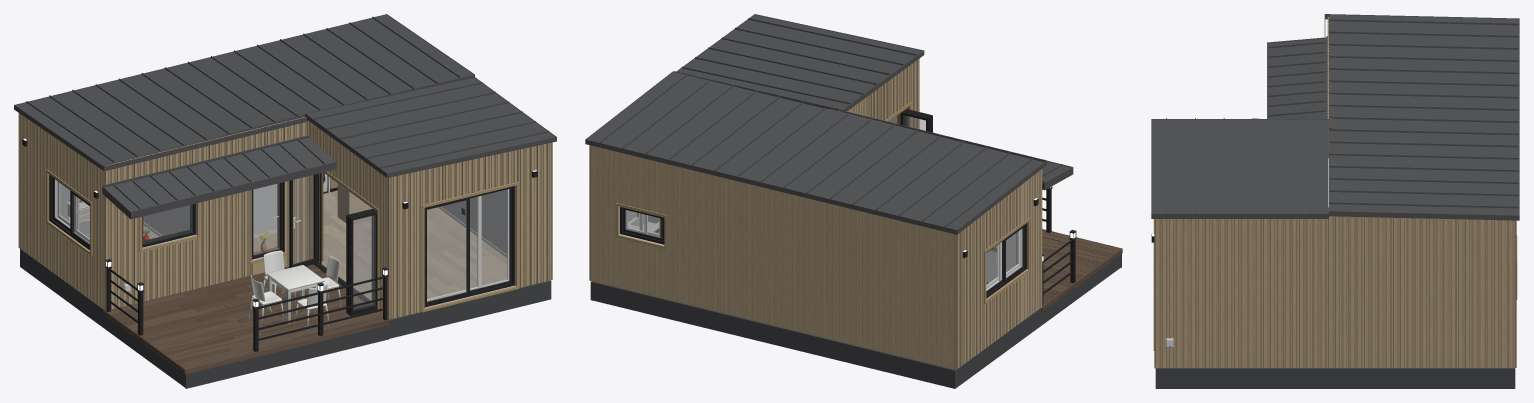
The model's file is seum-shelter-10.glb.
The picture shows the model from 3 angles, left to right: view 1: azimuth 30°, elevation 25°; view 2: azimuth 150°, elevation 25°; view 3: azimuth 270°, elevation 25°; orthographic projection. The views are drawn at different scales.
Visible parts, largest first — view 1: 지붕_Roof_MetalGray, Ext_WoodLouver, Ext_LouverGroove, Glass_Bronze, Deck_DarkWalnut, Frame_Black, Ext_BaseMetal, Int_Laminate, Roof_MetalGray, Int_WallWhite, 지붕_Cope_DarkGray, Ext_TrimBeige (+6 smaller); view 2: Ext_WoodLouver, 지붕_Roof_MetalGray, Ext_LouverGroove, Ext_BaseMetal, 지붕_Cope_DarkGray, Deck_DarkWalnut, Frame_Black, Glass_Bronze, Ext_TrimBeige, PVC_White, Int_WallWhite; view 3: 지붕_Roof_MetalGray, Ext_WoodLouver, Ext_LouverGroove, Ext_BaseMetal, Roof_MetalGray, 지붕_Cope_DarkGray, Cope_DarkGray, Ext_TrimBeige.
Boxes of the visible parts, <box> form: 지붕_Roof_MetalGray: <box>16,14,554,172</box>; Ext_WoodLouver: <box>19,113,552,319</box>; Ext_LouverGroove: <box>18,77,552,319</box>; Glass_Bronze: <box>55,175,509,309</box>; Deck_DarkWalnut: <box>104,264,388,374</box>; Frame_Black: <box>22,139,537,351</box>; Ext_BaseMetal: <box>20,249,551,388</box>; Int_Laminate: <box>88,190,507,300</box>; Roof_MetalGray: <box>105,138,335,211</box>; Int_WallWhite: <box>60,184,515,307</box>; 지붕_Cope_DarkGray: <box>14,14,556,177</box>; Ext_TrimBeige: <box>46,169,519,313</box>; Ext_WoodLouver: <box>589,58,1042,369</box>; 지붕_Roof_MetalGray: <box>587,14,1043,229</box>; Ext_LouverGroove: <box>589,60,1040,369</box>; Ext_BaseMetal: <box>590,254,1121,388</box>; 지붕_Cope_DarkGray: <box>585,14,1046,234</box>; Deck_DarkWalnut: <box>1041,229,1122,311</box>; Frame_Black: <box>620,109,1076,305</box>; Glass_Bronze: <box>626,115,1022,290</box>; Ext_TrimBeige: <box>615,102,1030,304</box>; PVC_White: <box>625,210,1022,290</box>; Int_WallWhite: <box>619,116,1016,284</box>; 지붕_Roof_MetalGray: <box>1152,14,1518,215</box>; Ext_WoodLouver: <box>1156,17,1514,367</box>; Ext_LouverGroove: <box>1154,17,1516,368</box>; Ext_BaseMetal: <box>1155,367,1515,388</box>; Roof_MetalGray: <box>1268,38,1326,118</box>; 지붕_Cope_DarkGray: <box>1151,14,1519,220</box>; Cope_DarkGray: <box>1267,36,1327,118</box>; Ext_TrimBeige: <box>1153,219,1517,350</box>.
Size of the model in its own units: 8.08 by 3.5 by 6.38.
111 materials, 16 textured.
